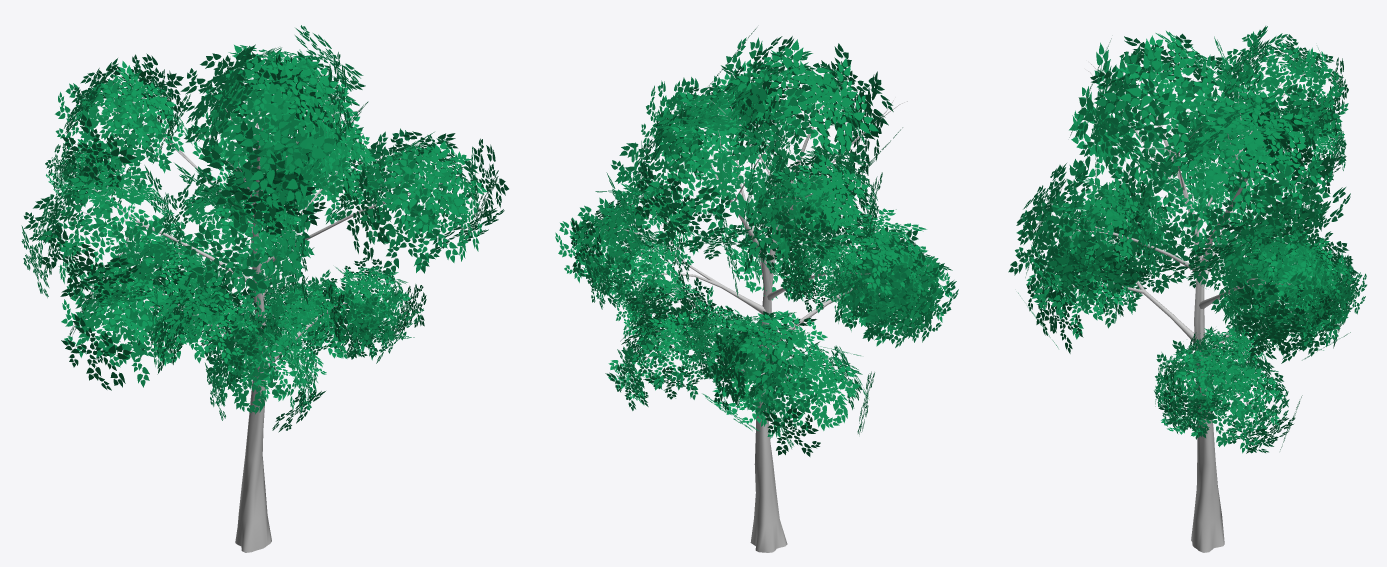
Rendered from Tree_Birch2.fbx.
The picture shows the model from 3 angles, left to right: view 1: azimuth 30°, elevation 25°; view 2: azimuth 150°, elevation 25°; view 3: azimuth 270°, elevation 25°; orthographic projection. The views are drawn at different scales.
Visible parts, largest first — view 1: Tree_Birch2; view 2: Tree_Birch2; view 3: Tree_Birch2.
Part boxes in pixels (left/top/right/bottom): Tree_Birch2: left=21, top=25, right=508, bottom=552; Tree_Birch2: left=555, top=28, right=958, bottom=552; Tree_Birch2: left=1008, top=26, right=1366, bottom=552.
Bounding box in the file's own units: 379 × 488 × 311.
